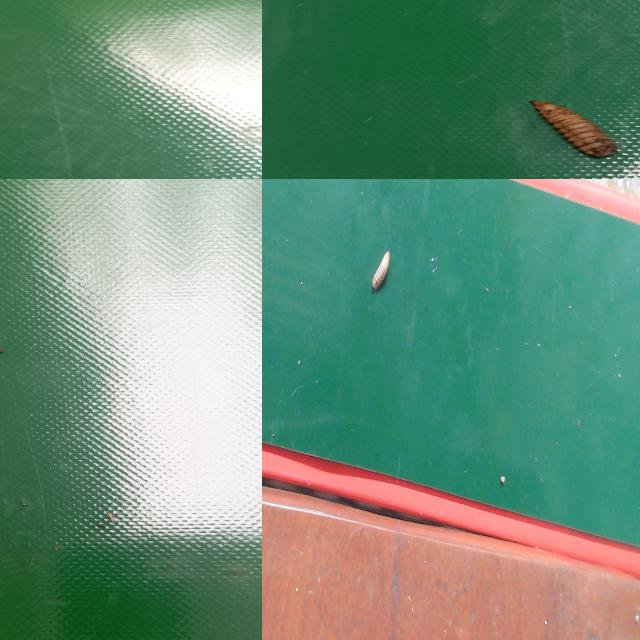Maggot: (531, 100, 618, 160), (370, 251, 394, 292)
